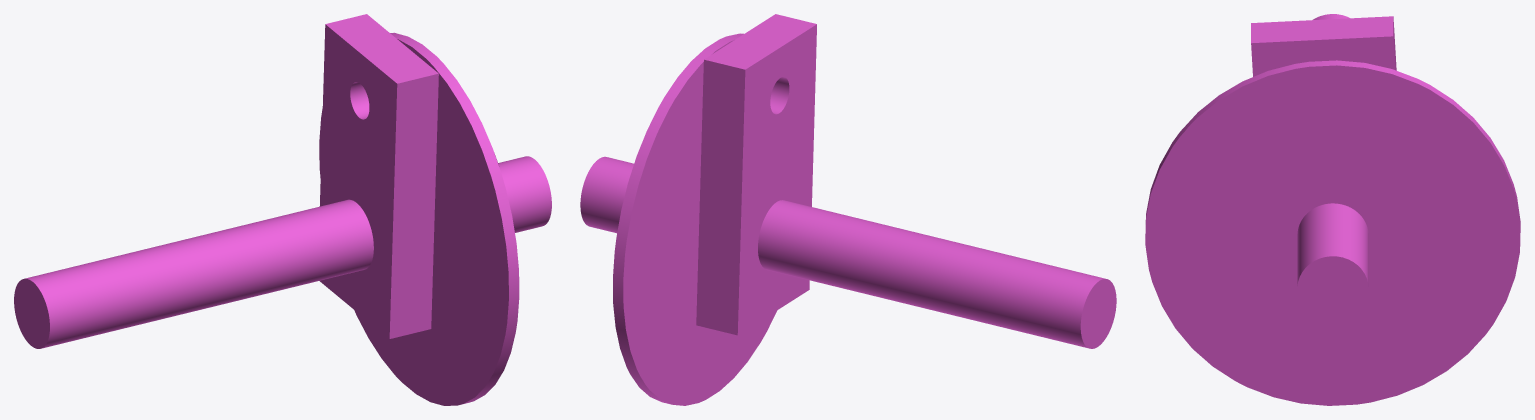
Rendered from RotationArm.dae.
The picture shows the model from 3 angles, left to right: view 1: azimuth 30°, elevation 25°; view 2: azimuth 150°, elevation 25°; view 3: azimuth 270°, elevation 25°; orthographic projection.
Parts seen in each view (by area): view 1: Object.002; view 2: Object.002; view 3: Object.002.
Boxes of the visible parts, <box> form: Object.002: <box>14,14,551,405</box>; Object.002: <box>580,14,1116,405</box>; Object.002: <box>1145,14,1520,405</box>.
Size of the model in its own units: 0.1531 by 0.1003 by 0.1051.
